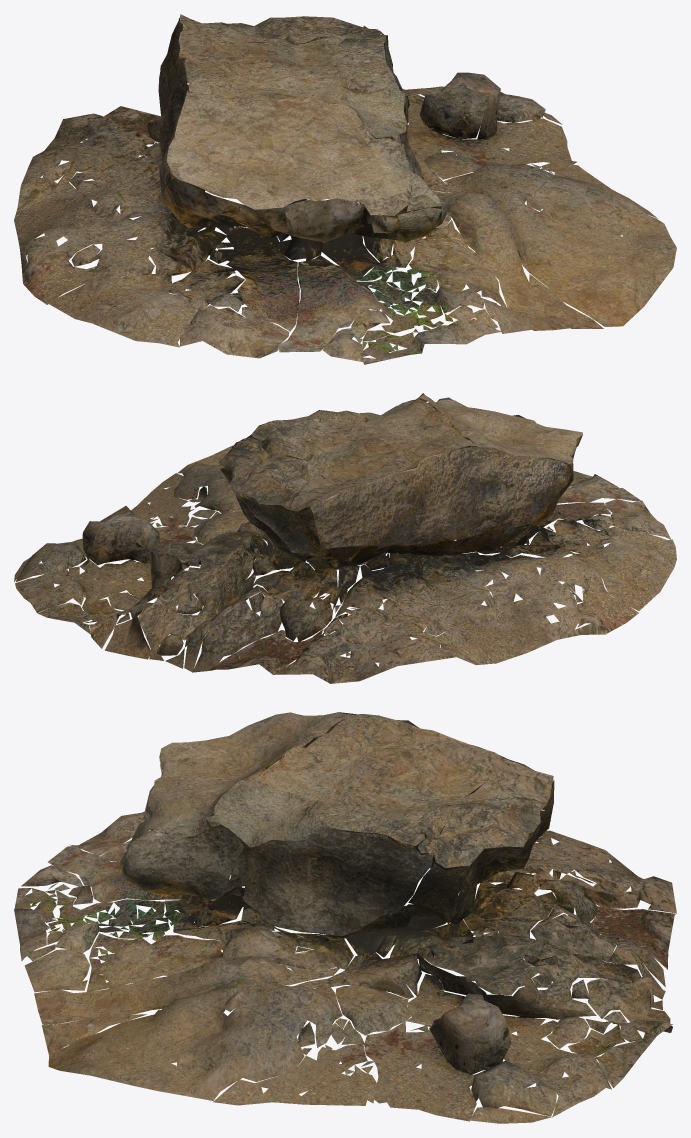
The model's file is coast_rocks_05.glb.
The picture shows the model from 3 angles, top to bottom: view 1: azimuth 30°, elevation 25°; view 2: azimuth 150°, elevation 25°; view 3: azimuth 270°, elevation 25°; orthographic projection. The views are drawn at different scales.
Parts seen in each view (by area): view 1: coast_rocks_05_v0_far; view 2: coast_rocks_05_v0_far; view 3: coast_rocks_05_v0_far.
Part boxes in pixels (<box>): coast_rocks_05_v0_far: <box>14,14,676,364</box>; coast_rocks_05_v0_far: <box>14,393,676,683</box>; coast_rocks_05_v0_far: <box>14,712,676,1123</box>.
Bounding box in the file's own units: 4.03 × 1.33 × 3.75.
1 material, 1 textured.
